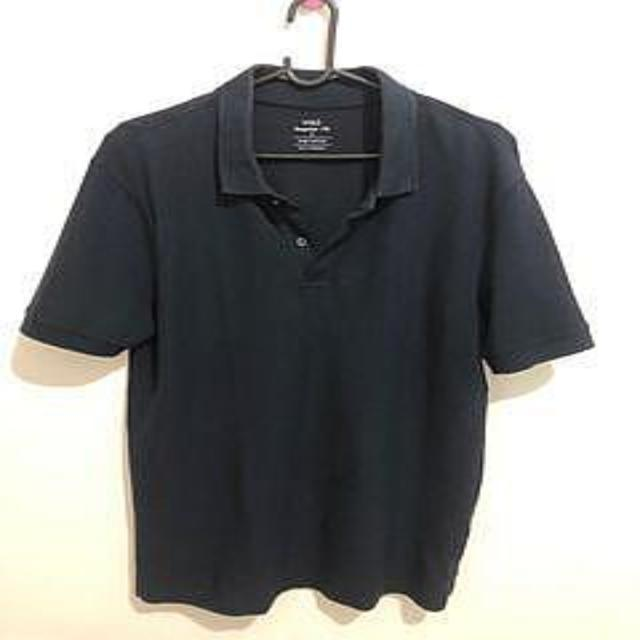T_SHIRT: (11, 46, 608, 625)
